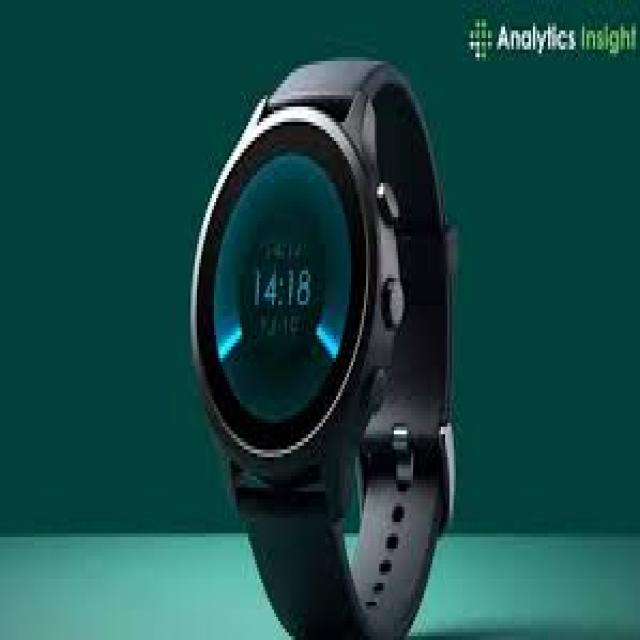objects: (191, 57, 452, 636)
